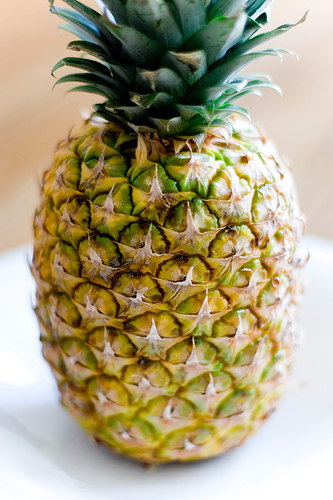pineapple: (20, 0, 311, 471)
